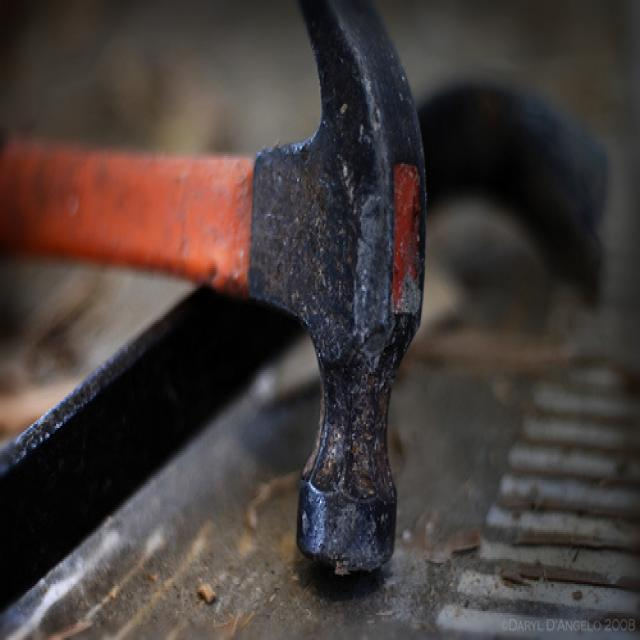hammer: (0, 0, 435, 594)
